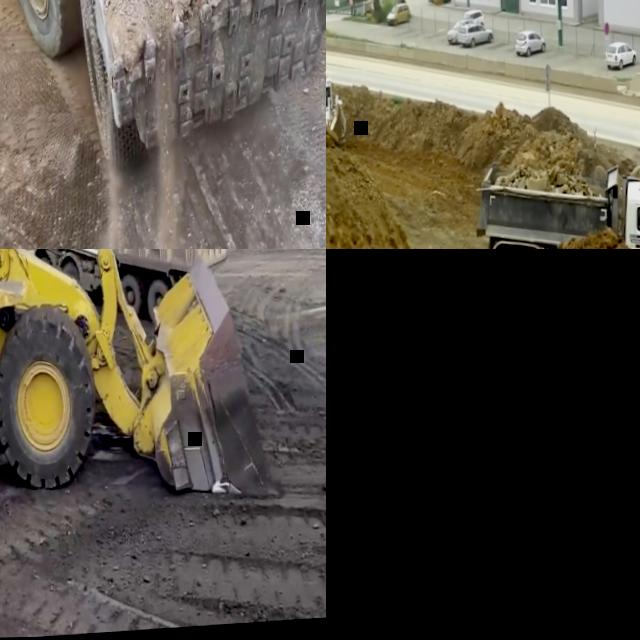vehicle: (0, 249, 277, 530), (0, 0, 326, 176), (18, 249, 238, 326), (471, 150, 640, 249), (326, 73, 350, 156), (604, 42, 638, 73), (457, 23, 495, 50), (515, 30, 547, 59), (447, 19, 476, 46), (387, 4, 412, 27), (462, 10, 486, 29)
